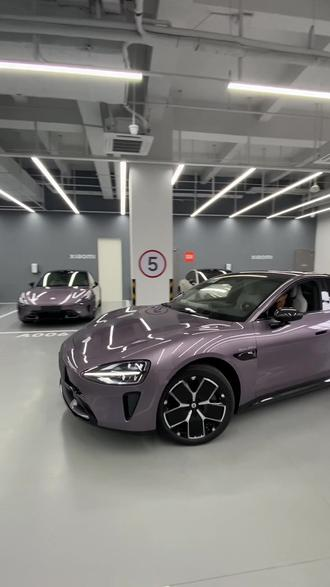su7: (52, 266, 330, 452), (13, 264, 95, 321)
